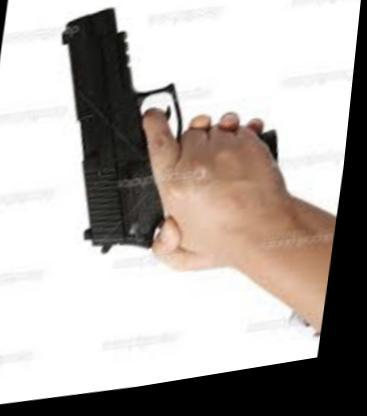pistol: (37, 0, 310, 282)
